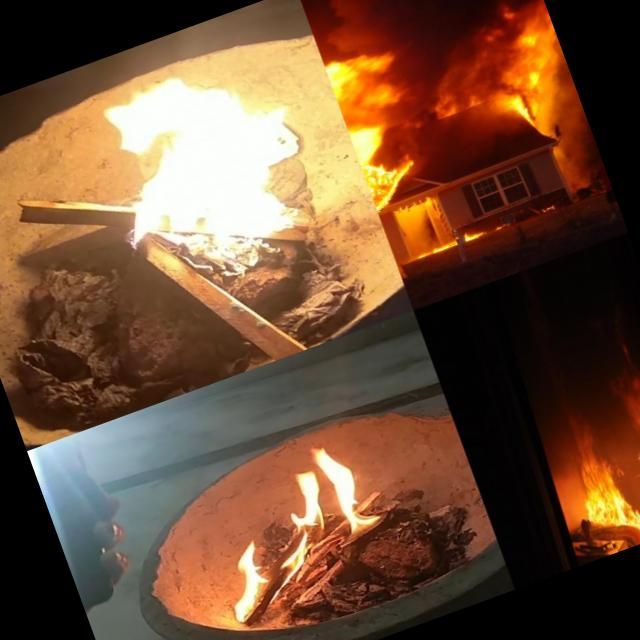fire: (65, 8, 342, 296), (314, 0, 565, 210), (182, 426, 418, 630), (566, 444, 639, 532), (510, 0, 570, 81), (623, 408, 640, 535)
smoke: (296, 0, 423, 37), (392, 198, 450, 260), (545, 72, 592, 140), (552, 135, 602, 196)
